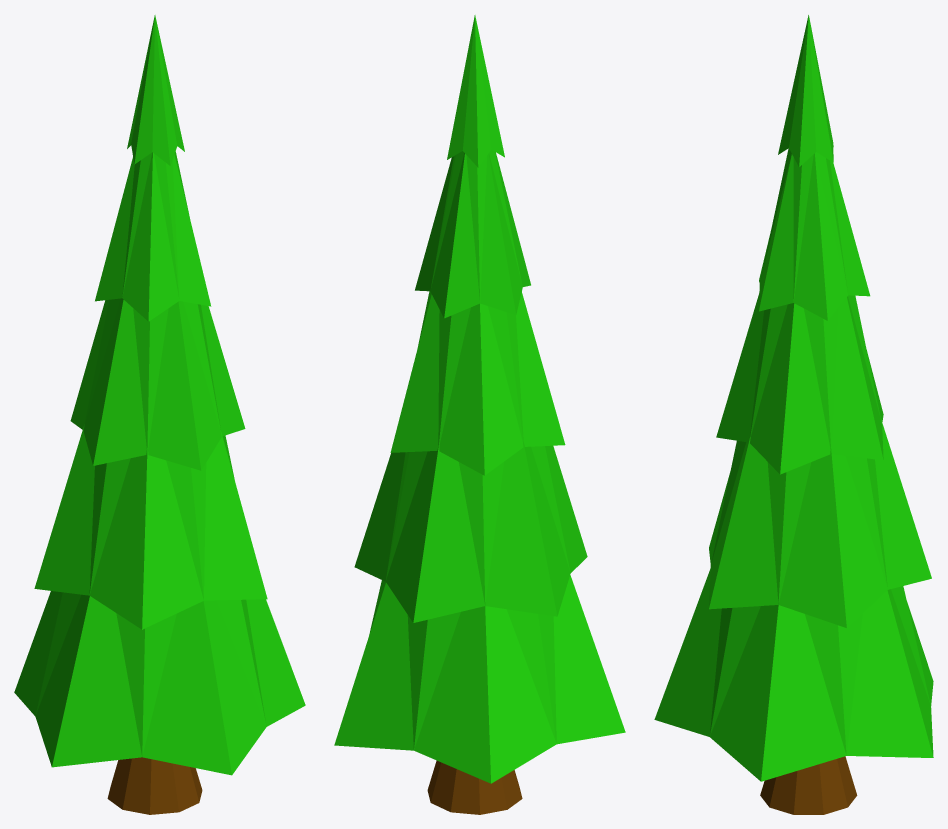
Rendered from PineTree.dae.
3 views of the same model, side by side, from view 1: azimuth 30°, elevation 25°; view 2: azimuth 150°, elevation 25°; view 3: azimuth 270°, elevation 25° (orthographic).
Parts seen in each view (by area): view 1: Zylinder; view 2: Zylinder; view 3: Zylinder.
Boxes of the visible parts, box(x1,y1,x2,y2) form: Zylinder: box(14, 15, 305, 814); Zylinder: box(334, 15, 625, 814); Zylinder: box(654, 15, 933, 814).
Size of the model in its own units: 4.15 by 3.94 by 12.19.
